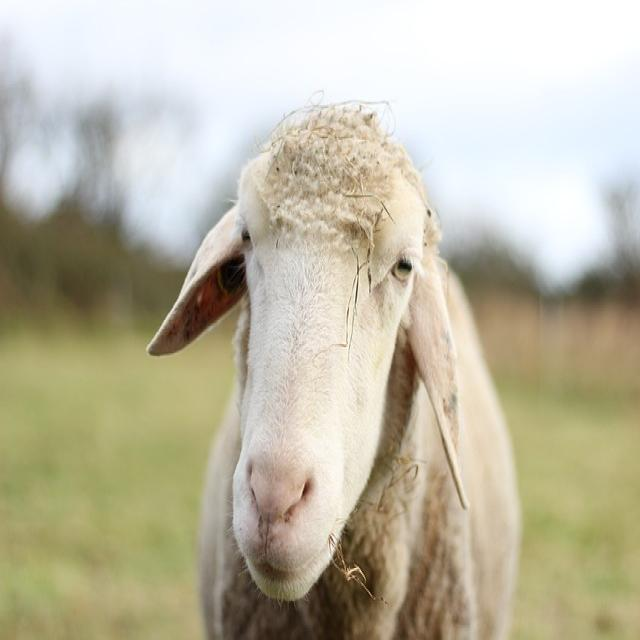goat: (147, 99, 523, 640)
